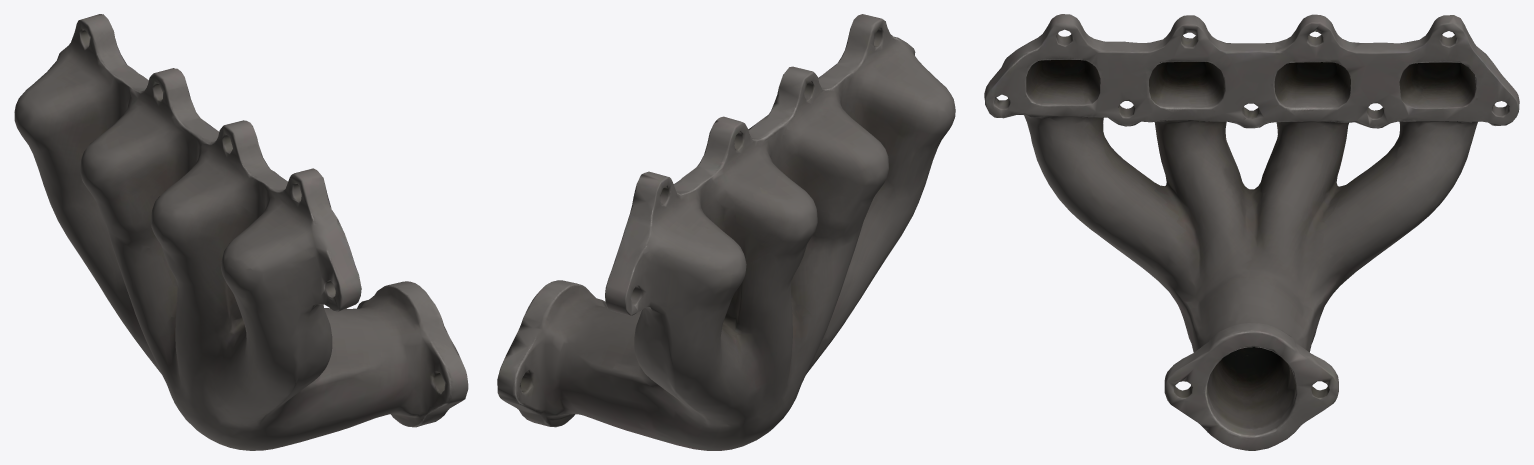
The model's file is exhaust-manifold.glb.
The picture shows the model from 3 angles, left to right: view 1: azimuth 30°, elevation 25°; view 2: azimuth 150°, elevation 25°; view 3: azimuth 270°, elevation 25°; orthographic projection. The views are drawn at different scales.
Visible parts, largest first — view 1: tripo_node_4bae3325-0354-4c1a-9ae6-7f847fb69ddd; view 2: tripo_node_4bae3325-0354-4c1a-9ae6-7f847fb69ddd; view 3: tripo_node_4bae3325-0354-4c1a-9ae6-7f847fb69ddd.
Boxes of the visible parts, left/top/right/bottom form: tripo_node_4bae3325-0354-4c1a-9ae6-7f847fb69ddd: left=14, top=14, right=468, bottom=450; tripo_node_4bae3325-0354-4c1a-9ae6-7f847fb69ddd: left=497, top=14, right=955, bottom=450; tripo_node_4bae3325-0354-4c1a-9ae6-7f847fb69ddd: left=984, top=14, right=1519, bottom=450.
Size of the model in its own units: 0.5886 by 0.6974 by 1.
Materials: 1 (1 with a texture image).
